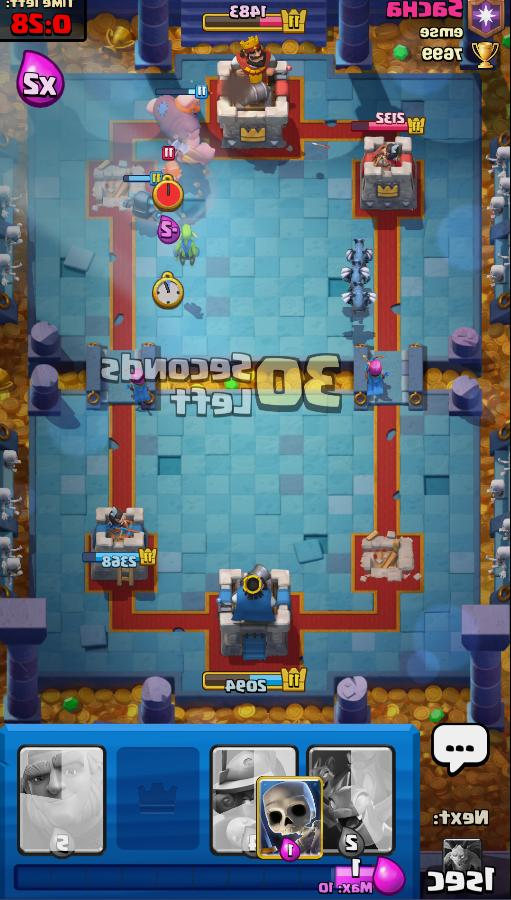archere: (345, 349, 395, 410), (116, 362, 159, 417)
gargouille: (327, 282, 385, 318), (328, 234, 381, 267), (335, 258, 374, 287)
geant: (140, 93, 221, 166)
gobelin: (162, 222, 204, 275)
mini_PEKKA: (111, 186, 163, 228)
valkyrie: (150, 146, 191, 191)
